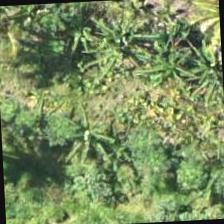Kelapa_Sawit: (0, 3, 45, 70)
